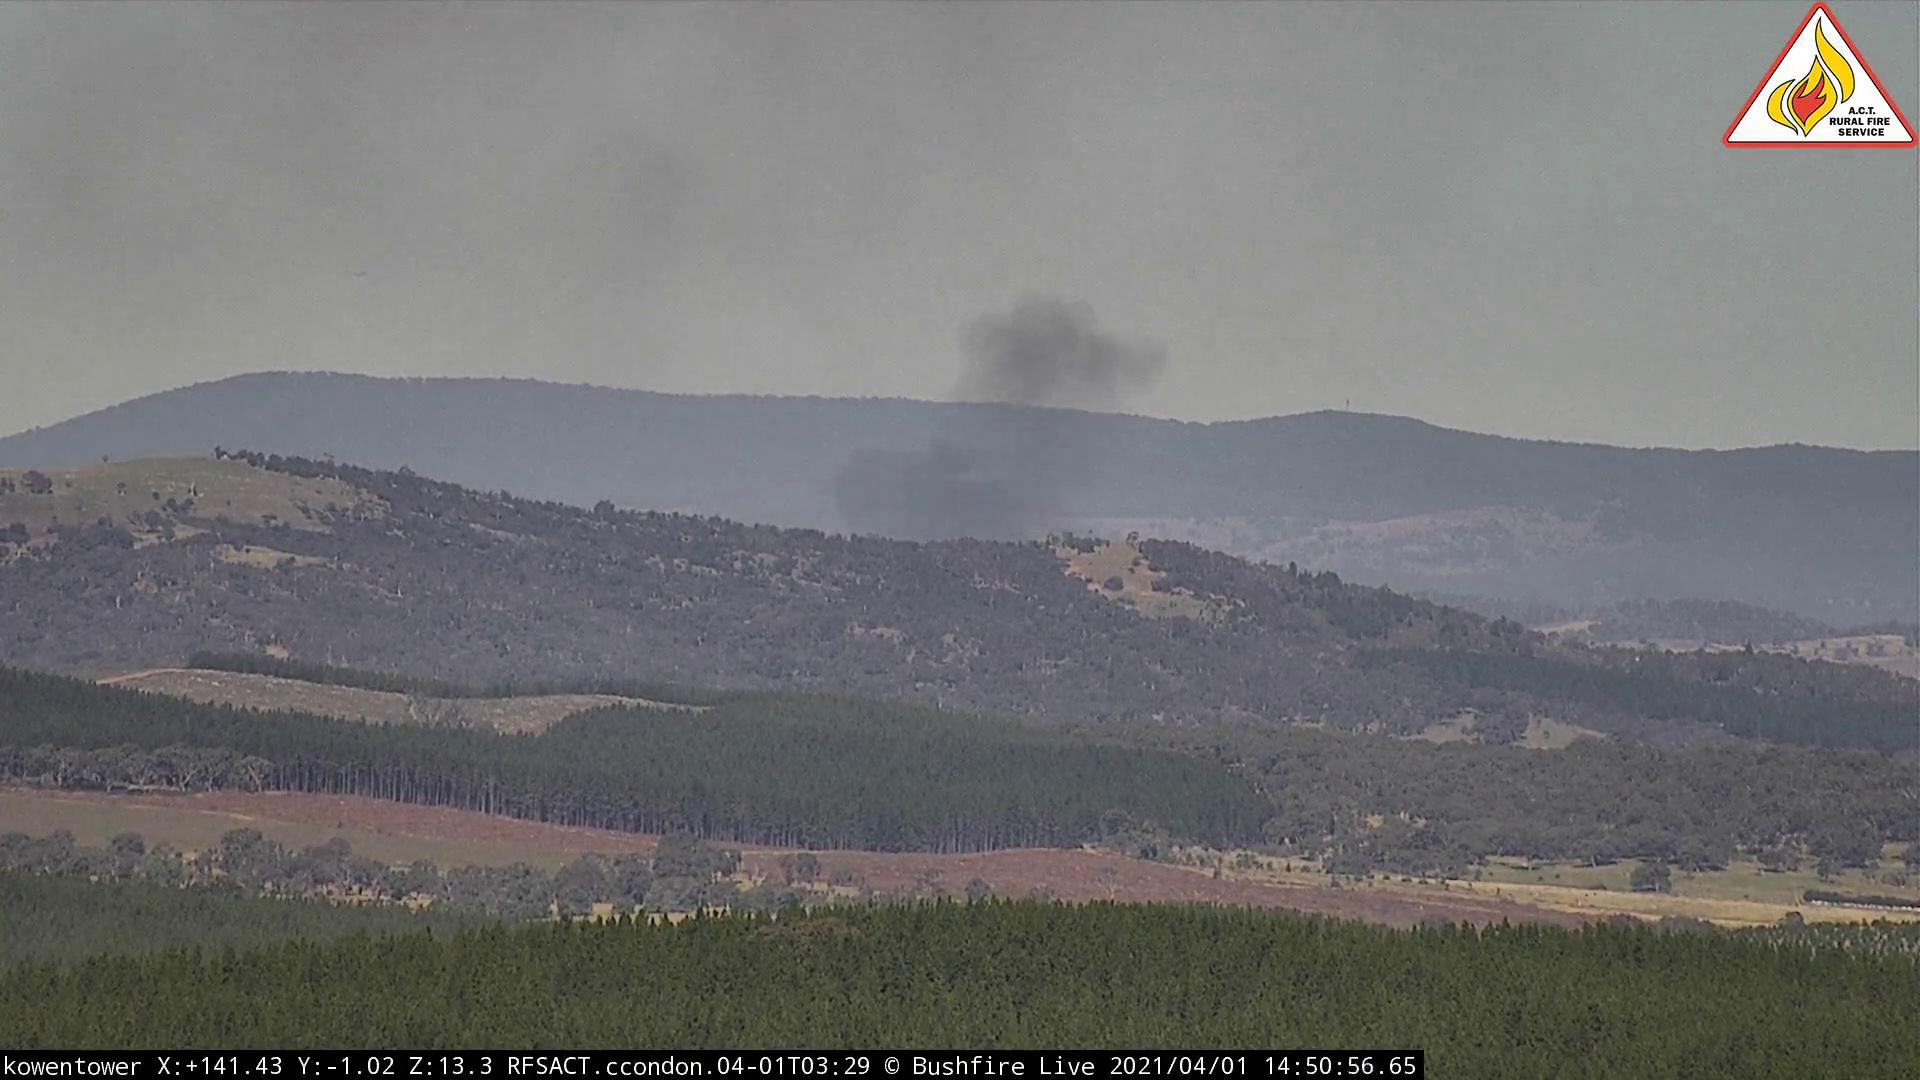instance_salient_object: (803, 272, 1225, 574)
